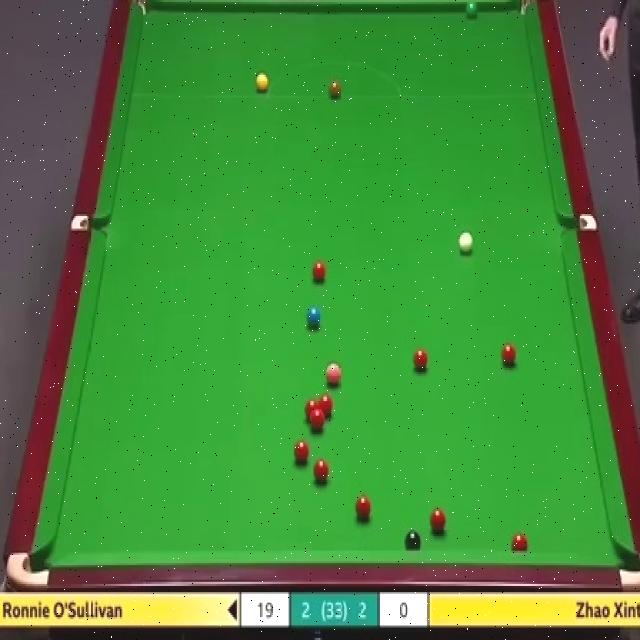black-ball: (402, 530, 420, 553)
blue-ball: (305, 306, 321, 331)
brown-ball: (327, 77, 341, 101)
green-ball: (464, 0, 480, 19)
red-ball: (312, 458, 330, 488), (428, 508, 446, 536), (413, 346, 430, 375), (353, 495, 371, 522), (293, 438, 310, 465), (325, 361, 341, 388), (501, 341, 516, 368), (312, 261, 328, 286), (319, 395, 333, 420), (512, 531, 528, 552), (305, 398, 318, 419), (311, 412, 324, 432)
white-ball: (457, 229, 475, 258)
yellow-ball: (254, 72, 268, 92)
